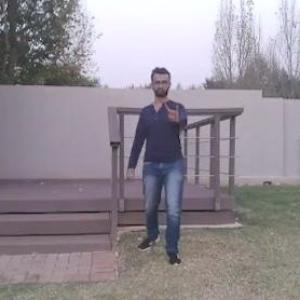takeoff-hand: (158, 94, 186, 125)
